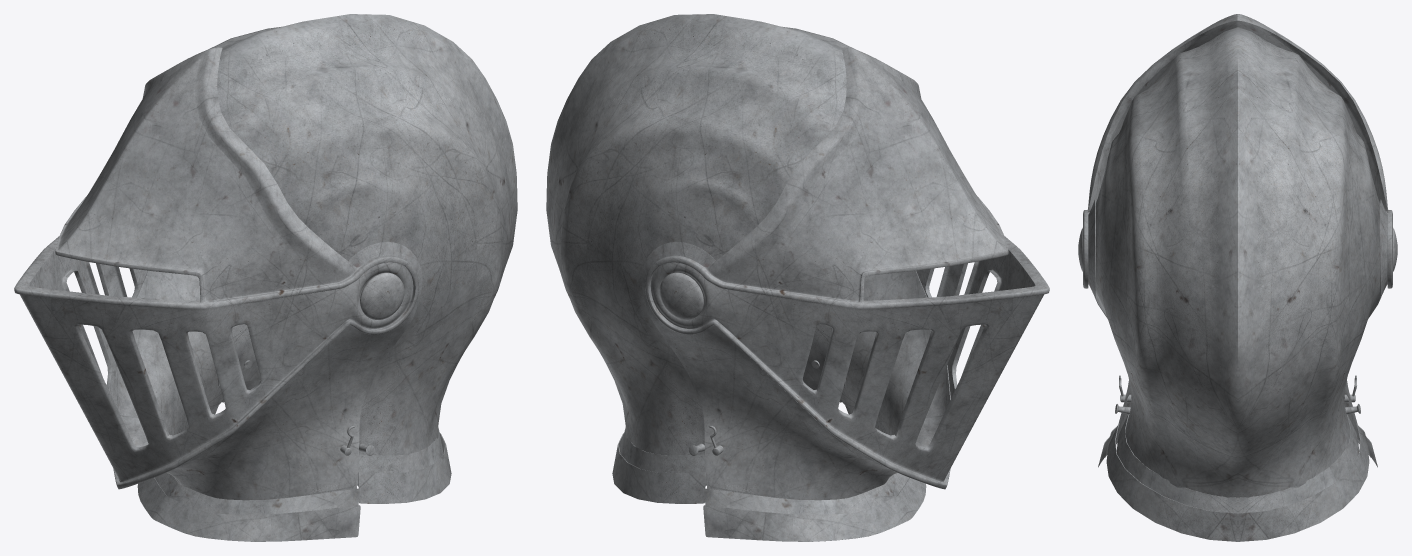
The model's file is knight_helmet.glb.
The picture shows the model from 3 angles, left to right: view 1: azimuth 30°, elevation 25°; view 2: azimuth 150°, elevation 25°; view 3: azimuth 270°, elevation 25°; orthographic projection. The views are drawn at different scales.
Parts seen in each view (by area): view 1: Helmet, Plane, Helmet.001, Circle; view 2: Helmet, Plane, Helmet.001, Circle; view 3: Helmet, Plane, Helmet.001.
Part boxes in pixels (x1,y1,x2,y2): Helmet: (208,14,517,503); Plane: (14,47,418,489); Helmet.001: (113,242,422,541); Circle: (360,272,404,319); Helmet: (546,14,855,503); Plane: (645,47,1049,489); Helmet.001: (641,242,950,541); Circle: (659,272,703,319); Helmet: (1095,27,1380,541); Plane: (1083,14,1392,288); Helmet.001: (1088,199,1387,467).
Bounding box in the file's own units: 16.69 × 14.66 × 9.86.
Materials: 1 (1 with a texture image).
